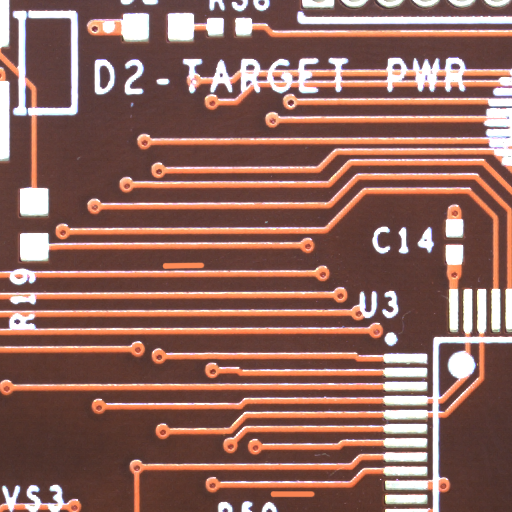Spurious_copper: (291, 493, 342, 502), (183, 265, 228, 275)
